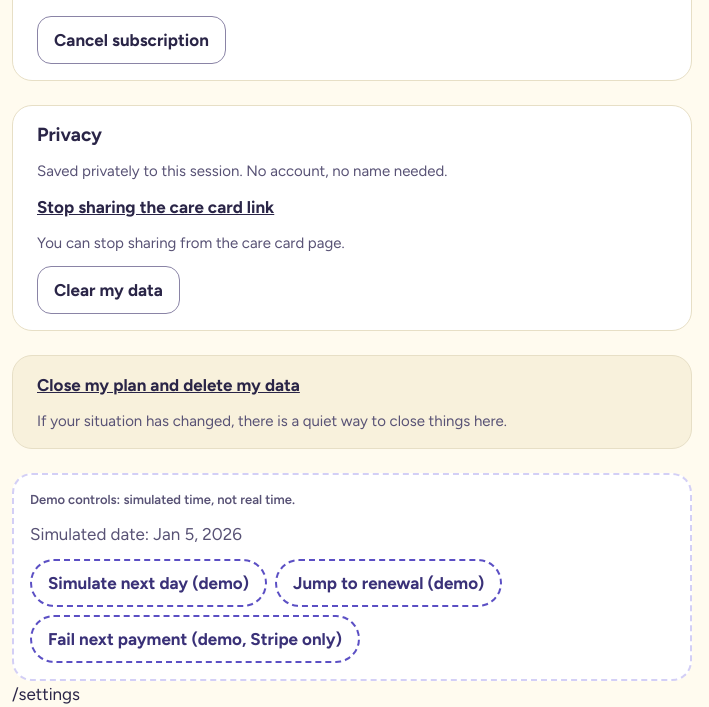
Test case: Settings › fail-next-payment shows the server's 409 message on a demo session
(page scrolled)
Click the button "Fail next payment (demo, Stripe only)": (195, 639) [30,615,360,663]
(page scrolled)
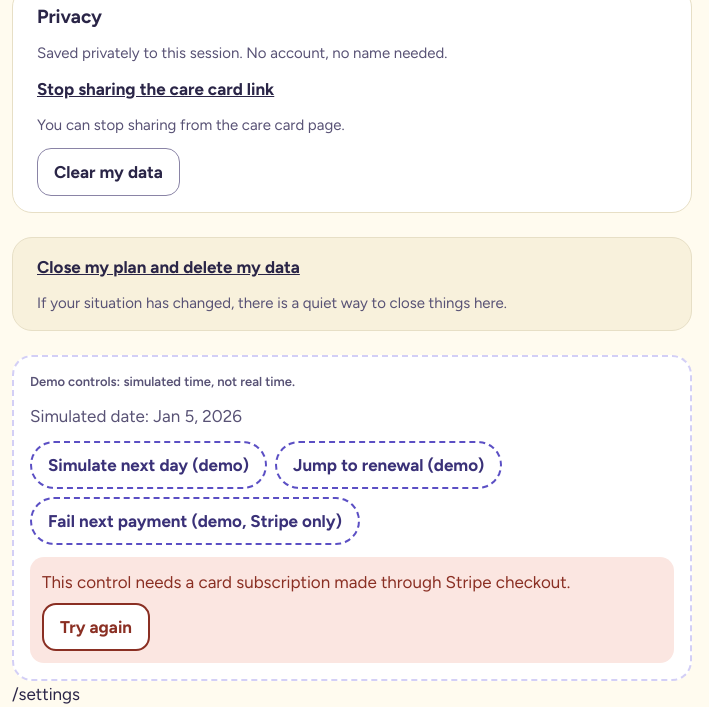
Result: the text "This control needs a card subscription made through Stripe checkout." is shown at [42,569,662,595]
